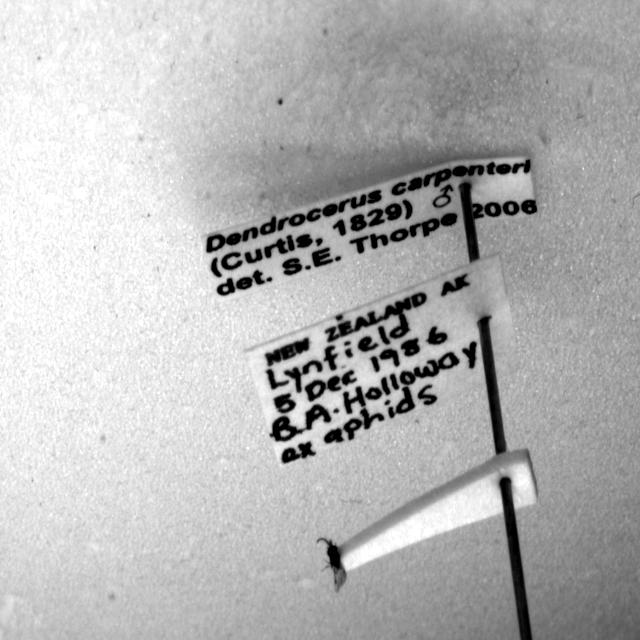mixed_label: (246, 253, 519, 465)
typed_label: (204, 158, 536, 298)
